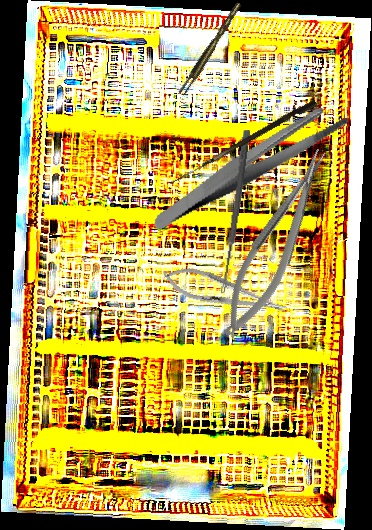Dressing Forceps: (135, 101, 364, 231)
Hook Surgical: (169, 96, 318, 192)
Needle Holder: (207, 143, 347, 345), (158, 259, 291, 326)
Surgical Spoon: (219, 129, 251, 295)
Tissue Forceps: (174, 1, 247, 98)
